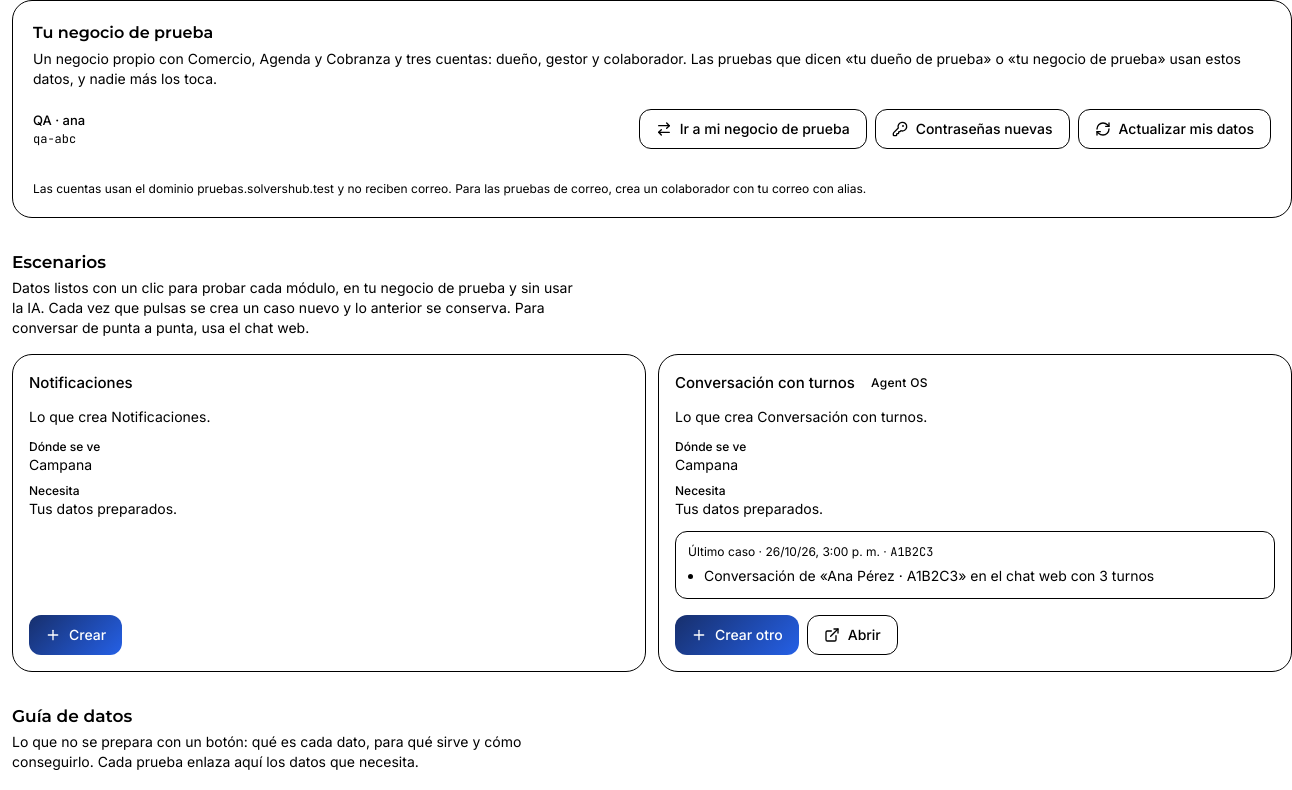
Scenario: Escenarios de datos de prueba › «Crear» crea un caso nuevo, muestra lo que creó y pasa a «Crear otro»
What coordinates should you click on to do the following:
click the button "Crear"
I would click on:
 (76, 635)
Its box is [29,615,122,655].
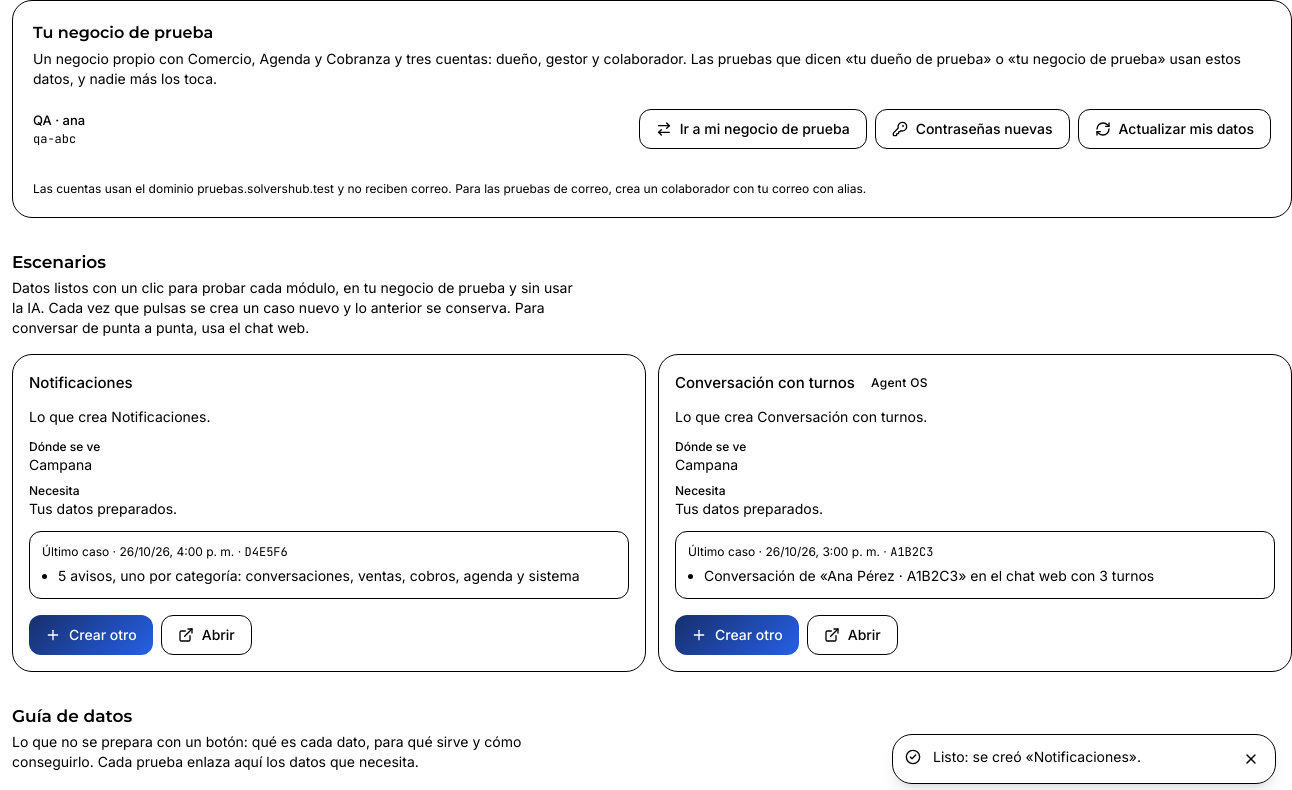
Expected: the list item "5 avisos, uno por categoría" is shown, [58,567,580,584]
Expected: the button "Crear otro" below "D4E5F6" is shown, [29,615,153,655]
Expected: the button "Abrir" below "D4E5F6" is shown, [161,615,252,655]
